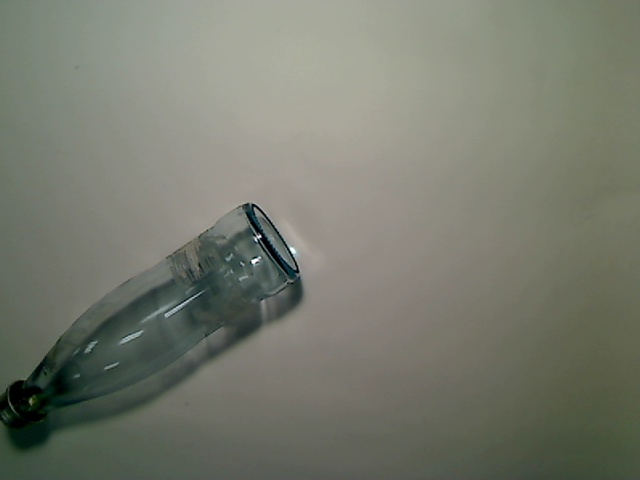bottle: (1, 202, 302, 430)
